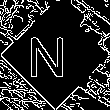N_N: (35, 30, 75, 80)
